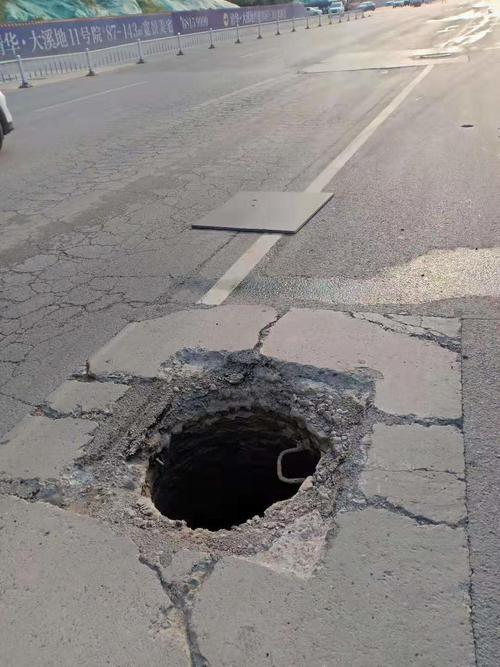wellcover: (107, 358, 363, 564)
